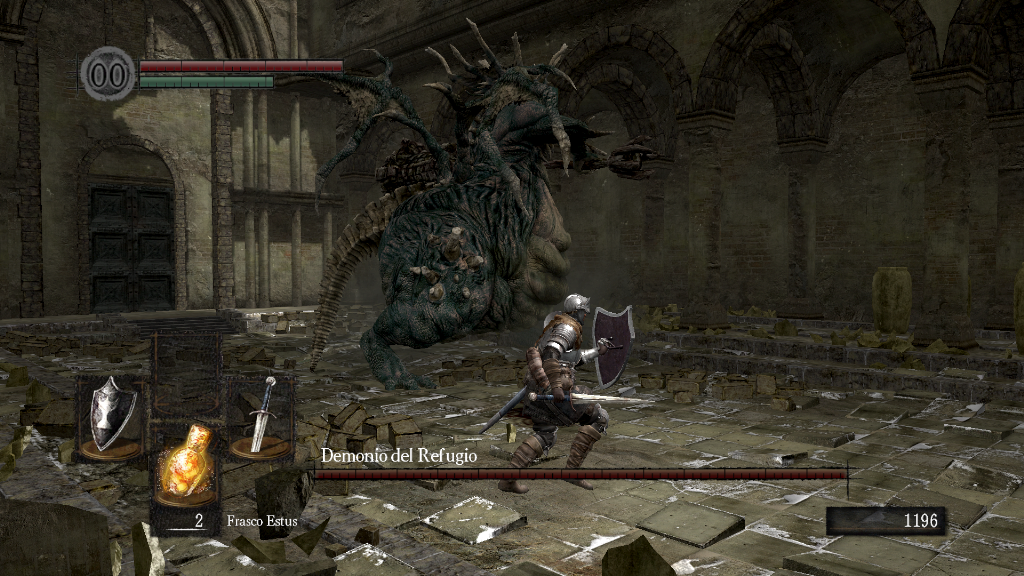asylumDemon: (305, 16, 660, 394)
bossHP: (314, 469, 847, 479)
health: (138, 58, 343, 71)
humanity: (80, 45, 136, 102)
player: (499, 292, 639, 493)
souls: (825, 506, 945, 536)
stamina: (138, 74, 274, 88)
